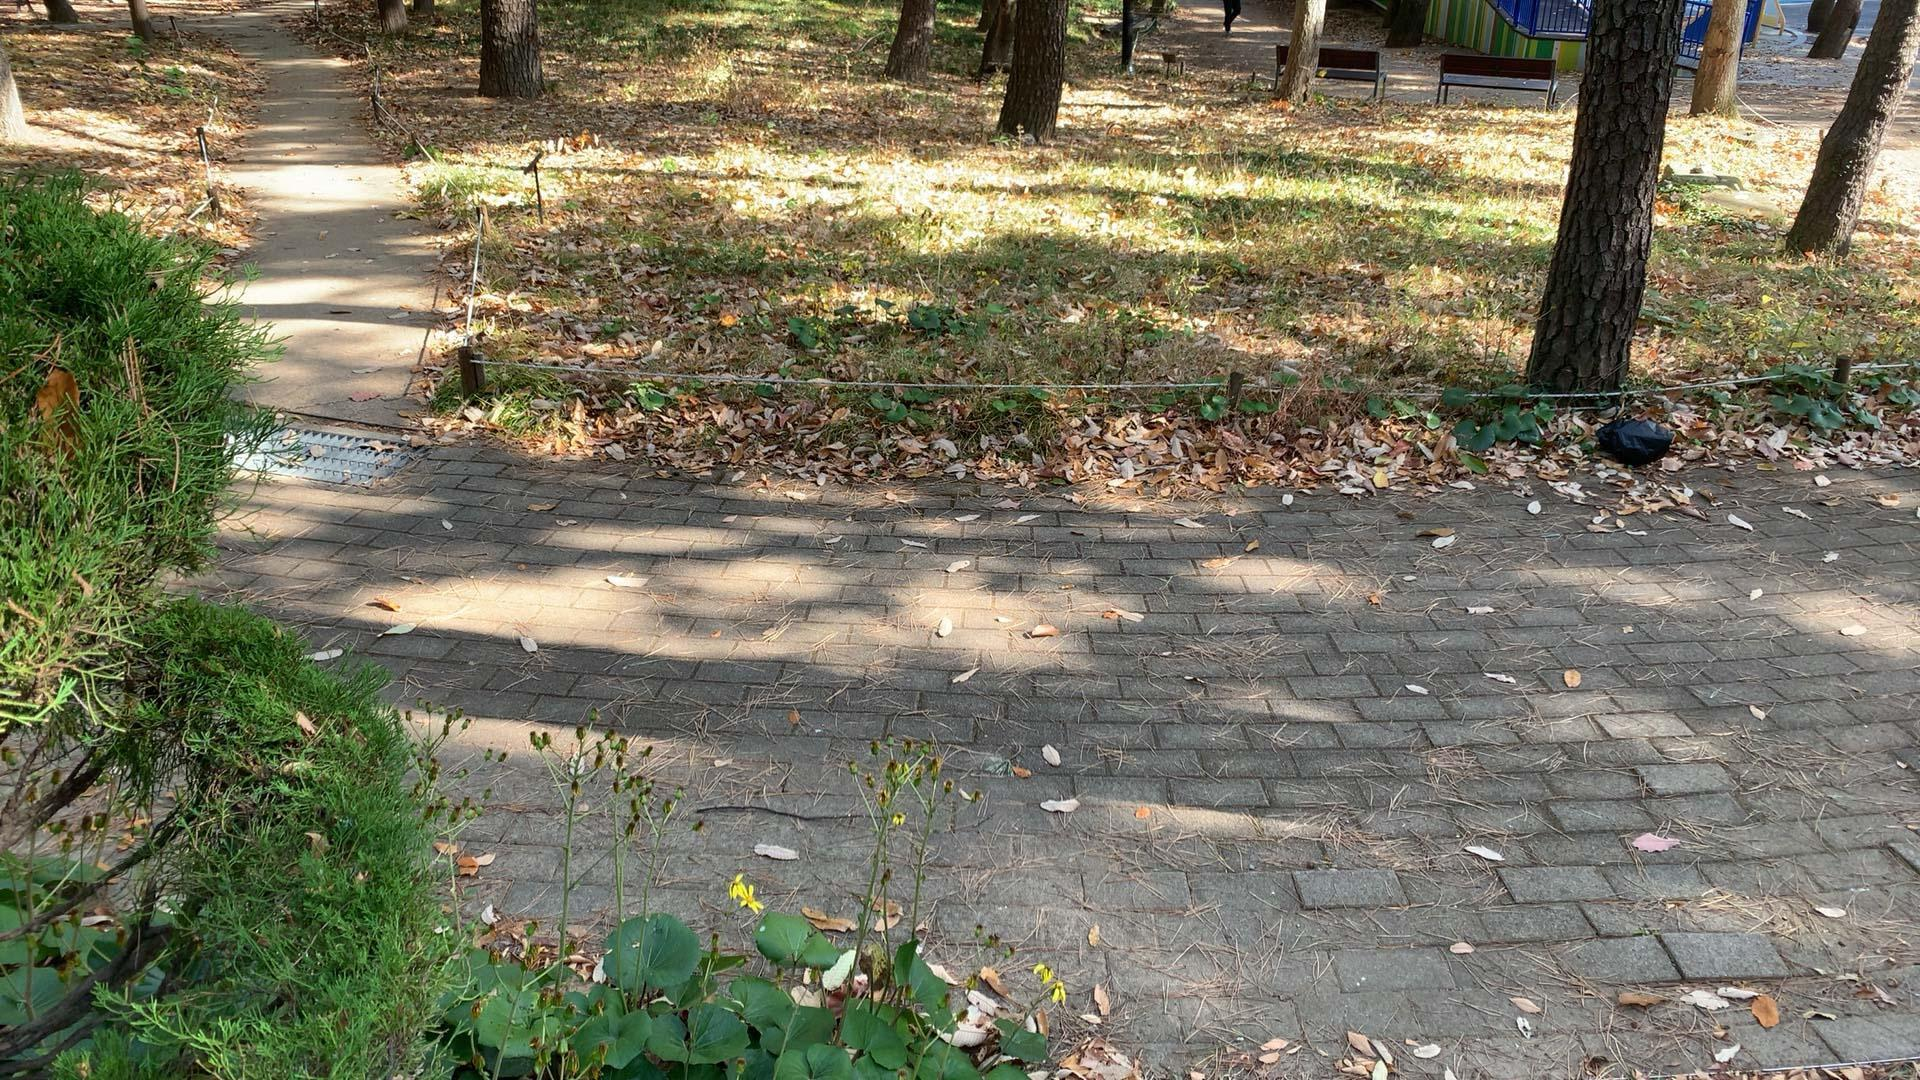black_bag: (1593, 411, 1673, 468)
